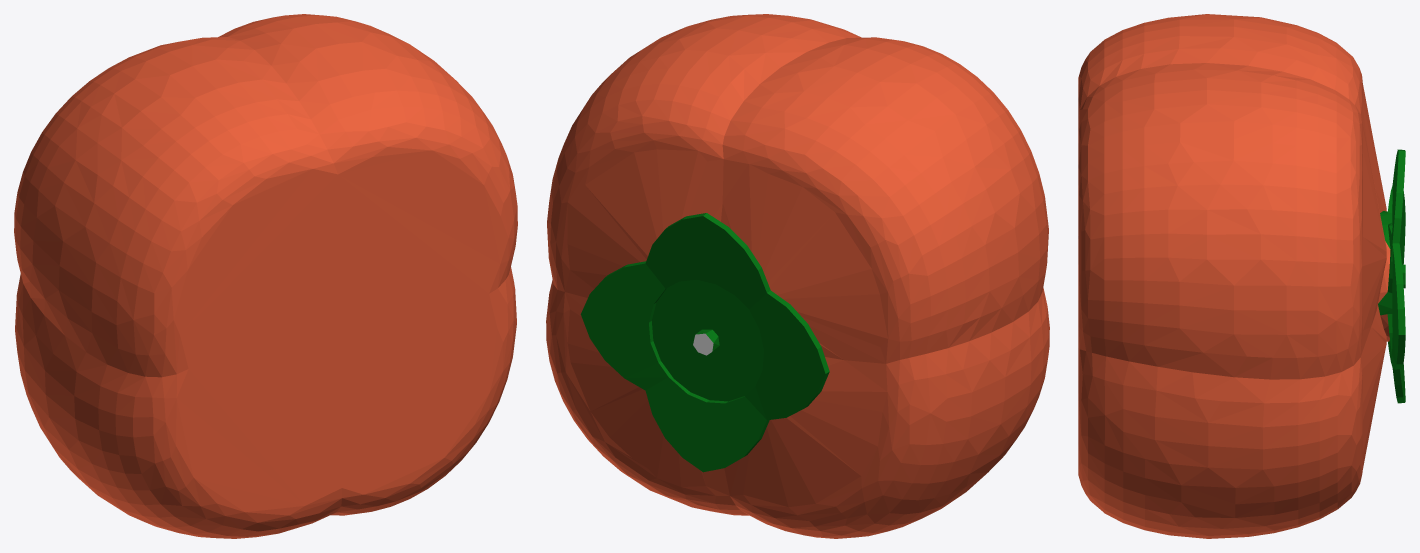
File: persimmon.fbx
3 views of the same model, side by side, from view 1: azimuth 30°, elevation 25°; view 2: azimuth 150°, elevation 25°; view 3: azimuth 270°, elevation 25° (orthographic). The views are drawn at different scales.
Parts seen in each view (by area): view 1: 零件8; view 2: 零件8; view 3: 零件8.
Boxes of the visible parts, x1=… form: 零件8: x1=14, y1=14, x2=517, y2=538; 零件8: x1=546, y1=14, x2=1049, y2=538; 零件8: x1=1078, y1=14, x2=1405, y2=538.
Size of the model in its own units: 20379 by 20377 by 13811.
